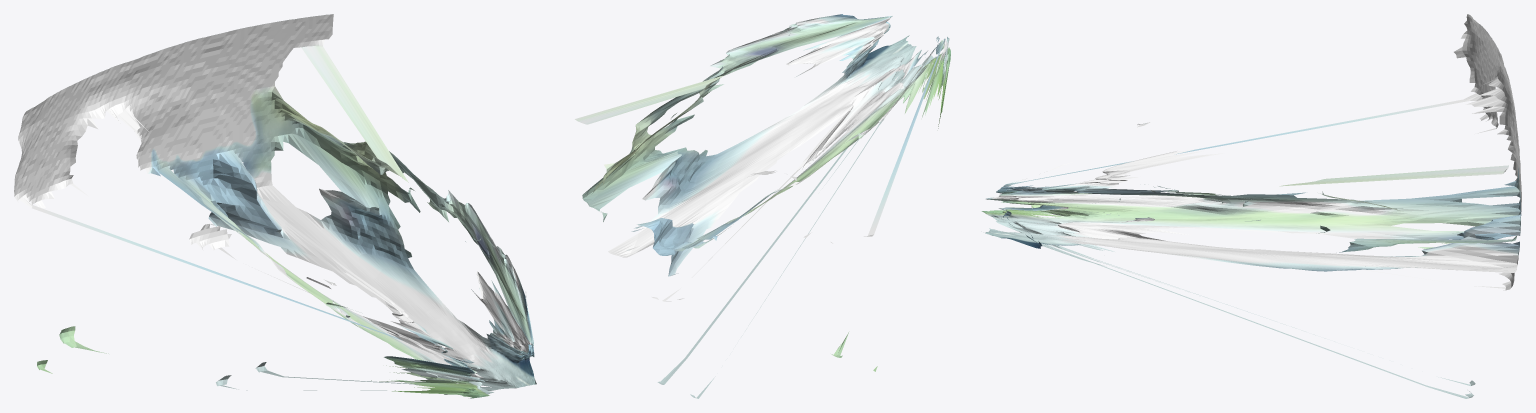
The picture shows the model from 3 angles, left to right: view 1: azimuth 30°, elevation 25°; view 2: azimuth 150°, elevation 25°; view 3: azimuth 270°, elevation 25°; orthographic projection. The views are drawn at different scales.
Visible parts, largest first — view 1: defaultobject; view 2: defaultobject; view 3: defaultobject.
Part boxes in pixels (x1,y1,x2,y2): defaultobject: [14, 14, 536, 398]; defaultobject: [575, 14, 950, 398]; defaultobject: [981, 14, 1521, 398].
Size of the model in its own units: 28.65 by 26.92 by 45.18.
1 material, 1 textured.
